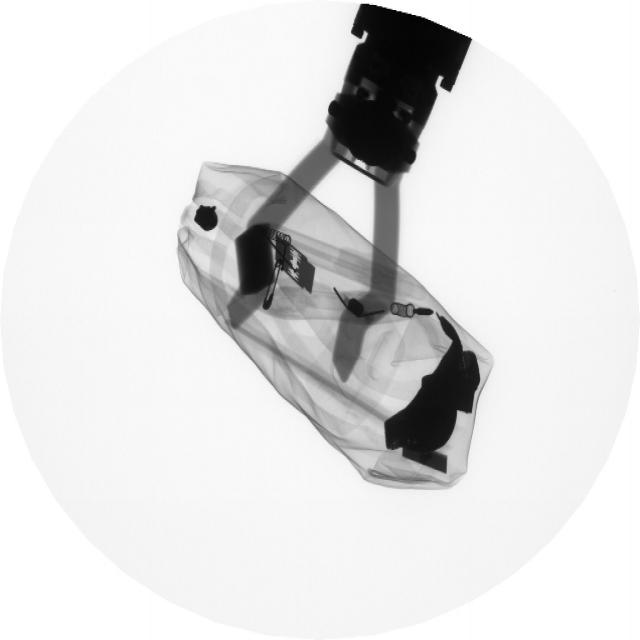BLADE: (278, 225, 322, 303)
